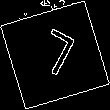L_SW: (29, 25, 81, 85)
